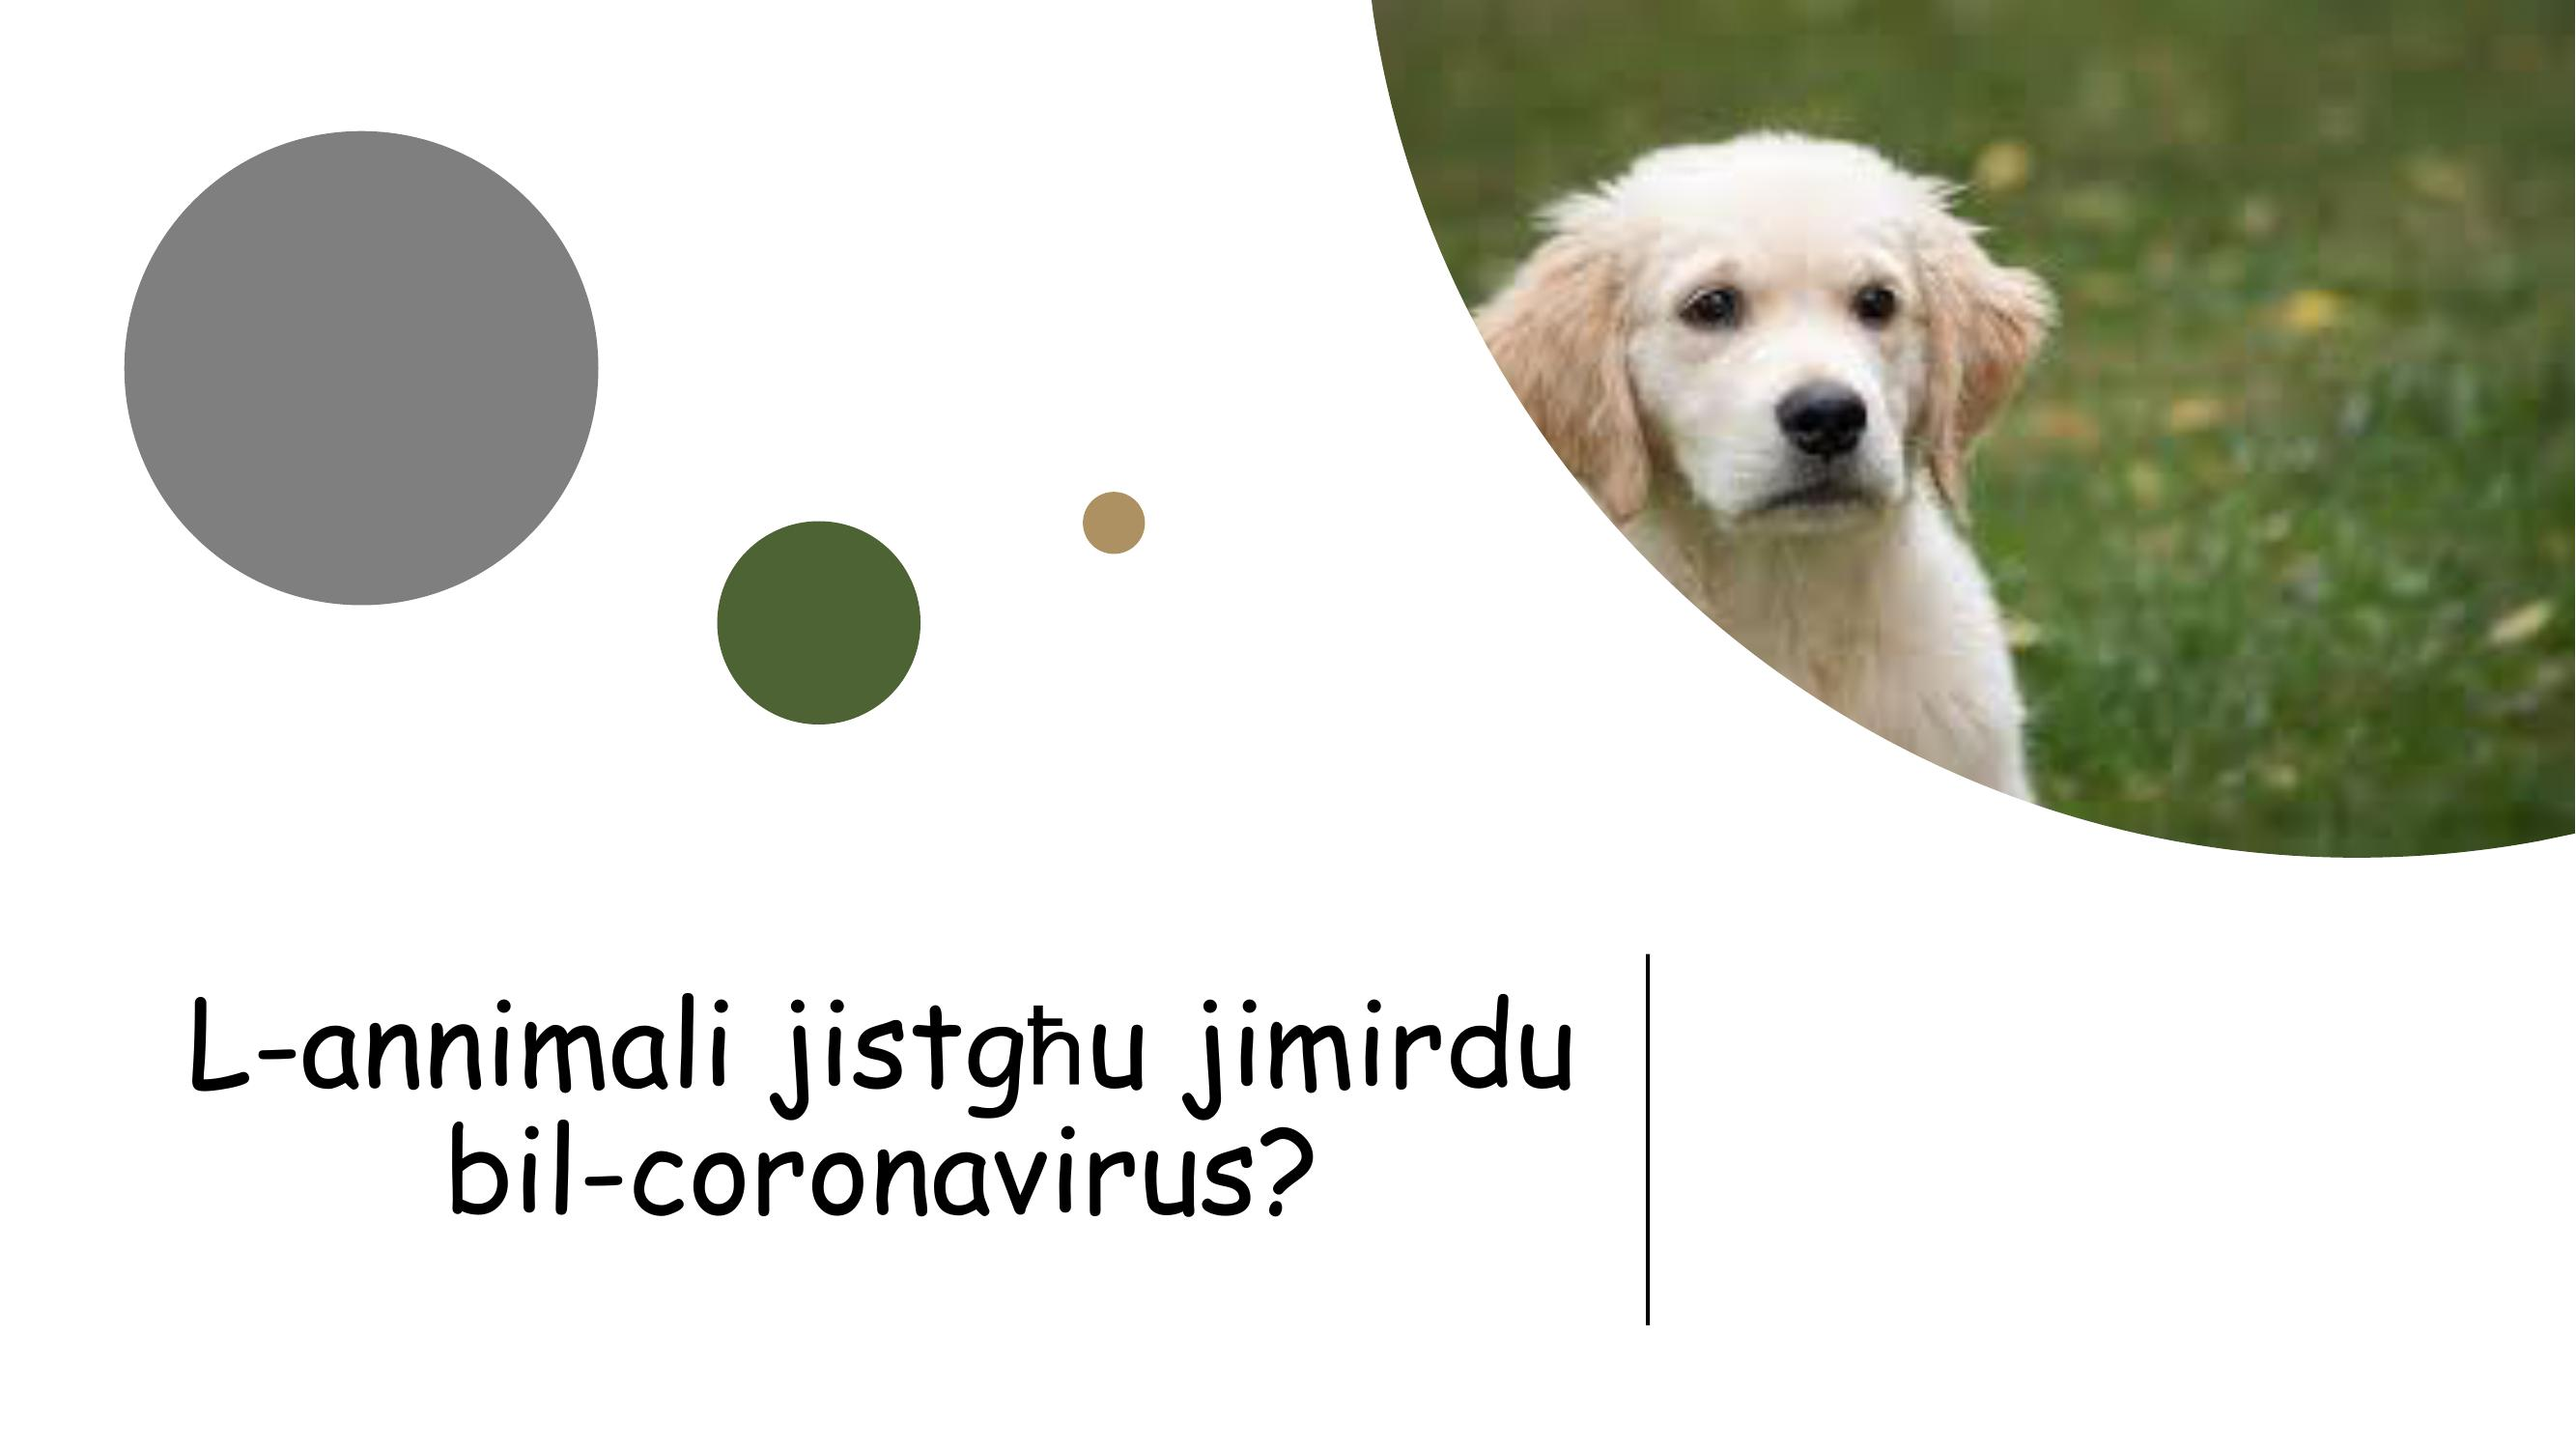text: (161, 962, 1592, 1244)
